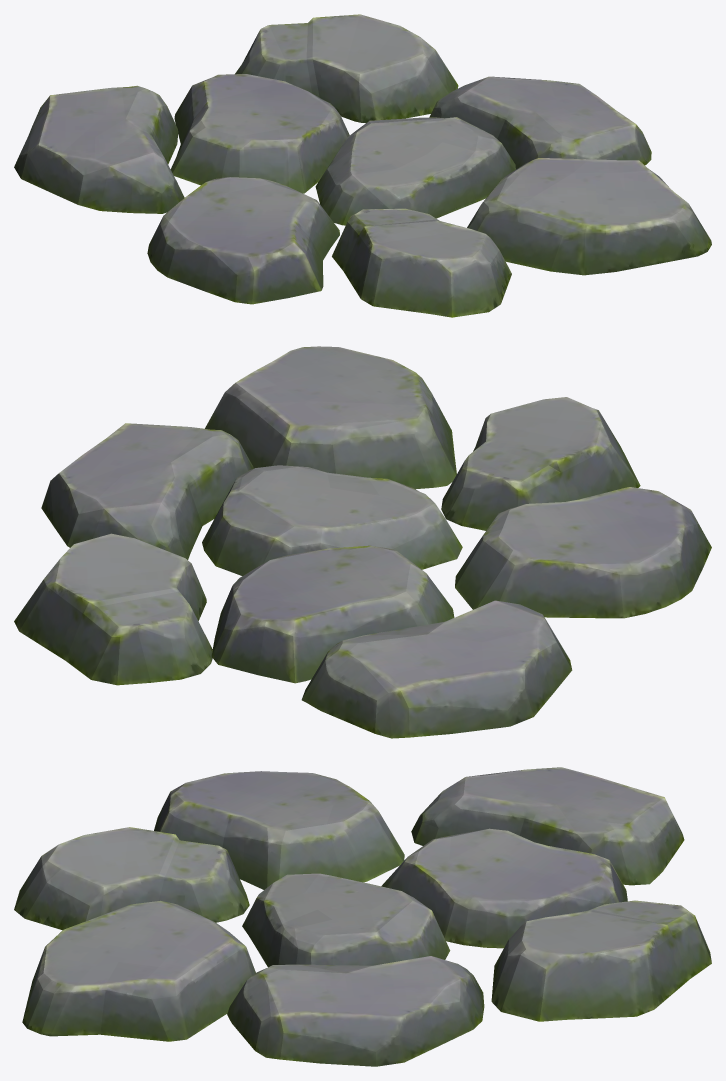
The model's file is RockPath_Round_Small_3.glb.
3 views of the same model, one above another, from view 1: azimuth 30°, elevation 25°; view 2: azimuth 150°, elevation 25°; view 3: azimuth 270°, elevation 25° (orthographic). The views are drawn at different scales.
Parts seen in each view (by area): view 1: RockPath_Round_Small_3; view 2: RockPath_Round_Small_3; view 3: RockPath_Round_Small_3.
Part boxes in pixels (bbox=[...]): RockPath_Round_Small_3: bbox=[14, 14, 711, 317]; RockPath_Round_Small_3: bbox=[14, 346, 711, 738]; RockPath_Round_Small_3: bbox=[14, 767, 711, 1066].
Size of the model in its own units: 1.18 by 0.1093 by 1.29.
Materials: 1 (1 with a texture image).
